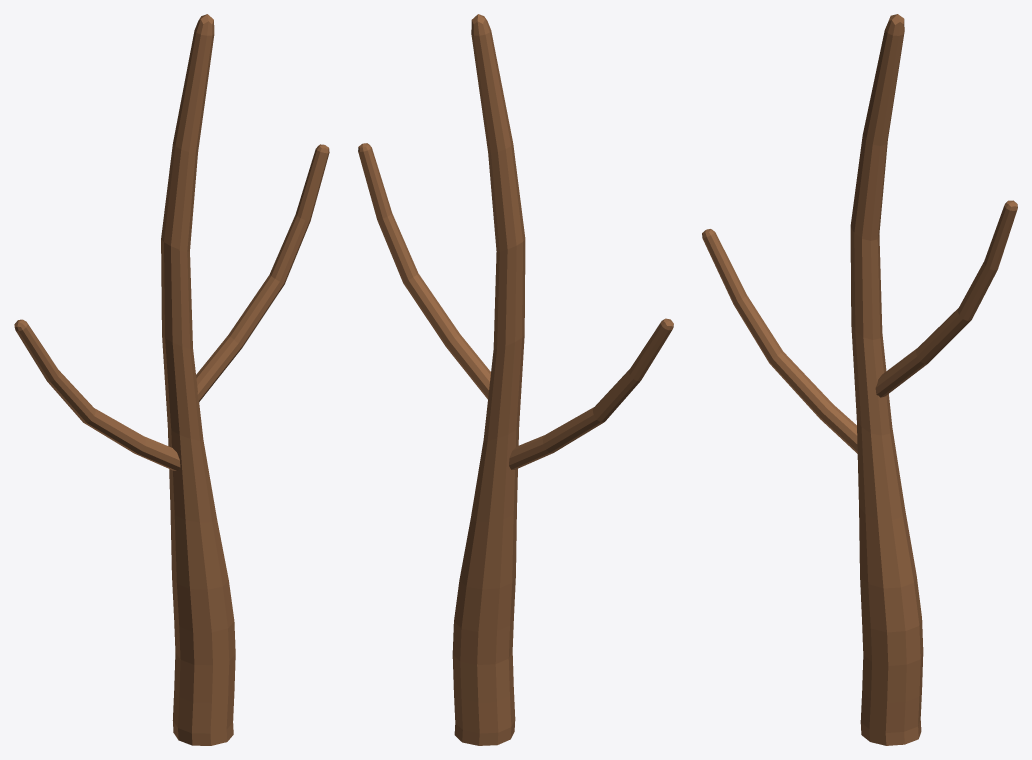
The model's file is Tree3.glb.
3 renders of one model, left to right at view 1: azimuth 30°, elevation 25°; view 2: azimuth 150°, elevation 25°; view 3: azimuth 330°, elevation 25°, orthographic.
Visible parts, largest first — view 1: Tree3; view 2: Tree3; view 3: Tree3.
Part boxes in pixels (box(x1,y1,x2,y2)): Tree3: box(14, 14, 329, 745); Tree3: box(358, 14, 673, 745); Tree3: box(702, 14, 1017, 745).
Size of the model in its own units: 2.15 by 4.74 by 0.3458.
